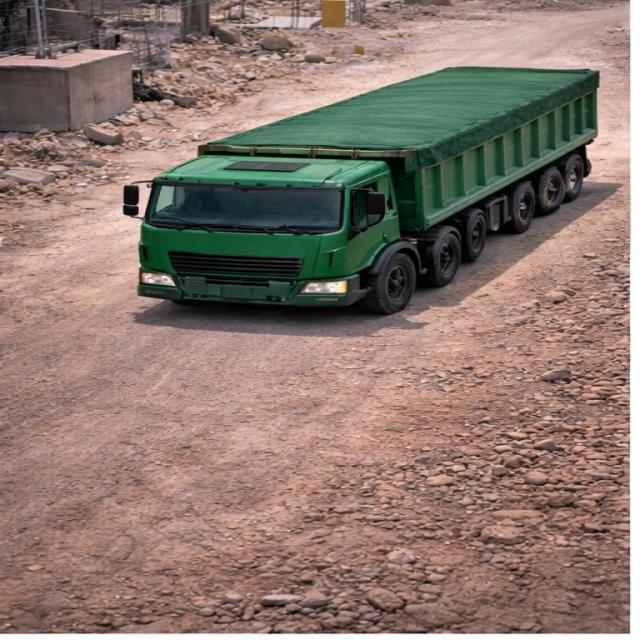trailer: (202, 68, 600, 150)
truck: (114, 47, 612, 299)
